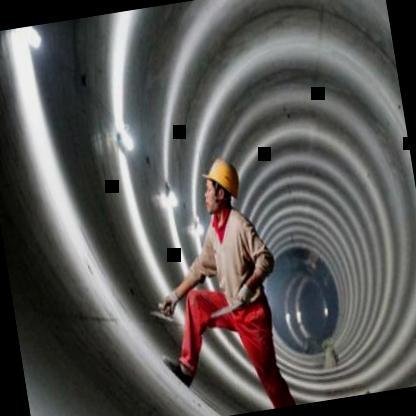helmet: (196, 152, 244, 221)
